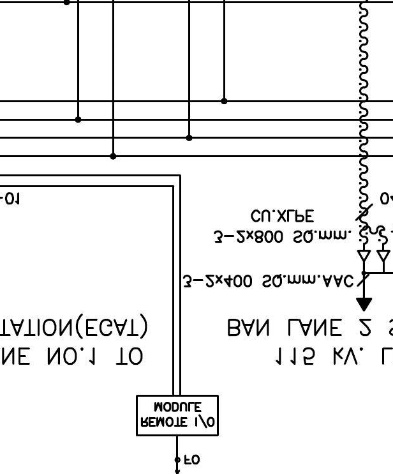remote_io_module: (135, 394, 219, 436)
terminator_double: (356, 249, 391, 275)
